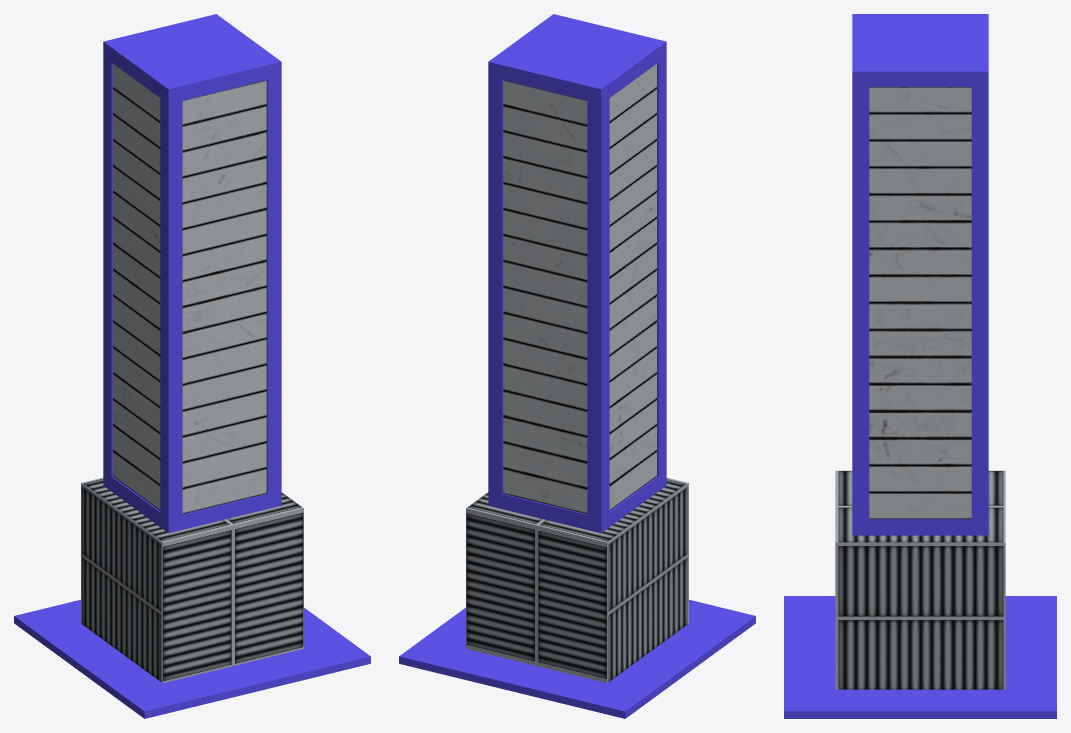
The model's file is CeilingSupport_PillarFloor_01.FBX.
3 views of the same model, side by side, from view 1: azimuth 30°, elevation 25°; view 2: azimuth 150°, elevation 25°; view 3: azimuth 270°, elevation 25° (orthographic). The views are drawn at different scales.
Parts seen in each view (by area): view 1: CeilingSupport_PillarFloor_01; view 2: CeilingSupport_PillarFloor_01; view 3: CeilingSupport_PillarFloor_01.
Part boxes in pixels (x1=…): CeilingSupport_PillarFloor_01: x1=14, y1=14, x2=370, y2=718; CeilingSupport_PillarFloor_01: x1=399, y1=14, x2=755, y2=718; CeilingSupport_PillarFloor_01: x1=784, y1=14, x2=1056, y2=718.
Bounding box in the file's own units: 1.6 × 4 × 1.6.
3 materials, 2 textured.
